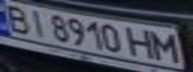0: (100, 21, 124, 53)
1: (81, 19, 103, 49)
8: (45, 12, 69, 43)
9: (63, 16, 87, 46)
B: (0, 2, 33, 34)
H: (124, 26, 157, 59)
I: (24, 7, 51, 37)
M: (148, 29, 184, 62)
